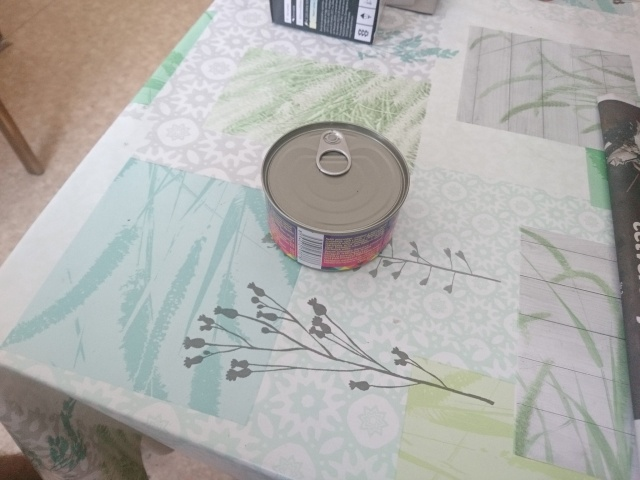Giana Tuna Salad Mexico 185g: (257, 118, 413, 275)
